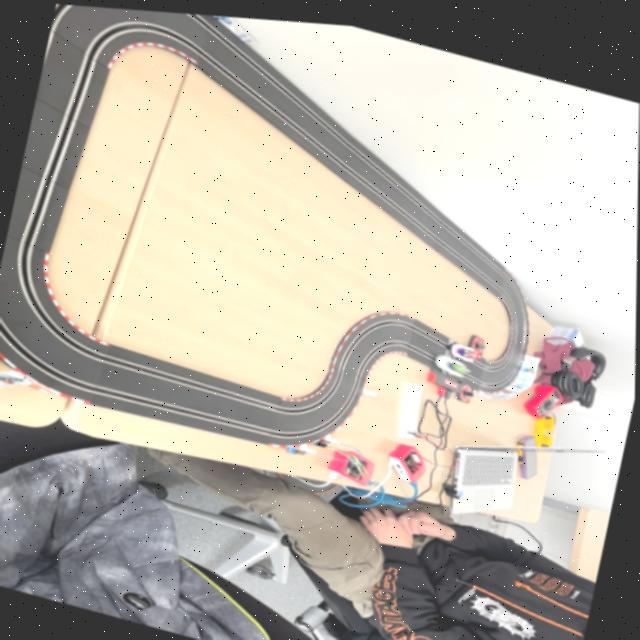mario: (449, 334, 486, 360)
yoshi: (433, 346, 471, 374)
